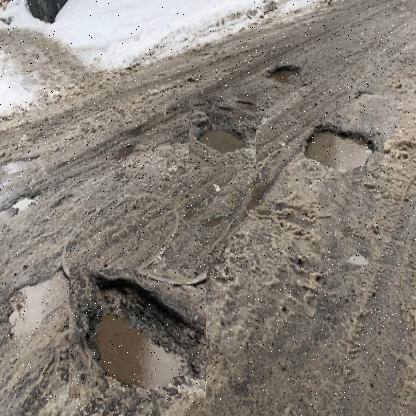pothole_water: (69, 269, 207, 399), (294, 109, 390, 194), (189, 94, 257, 168)
